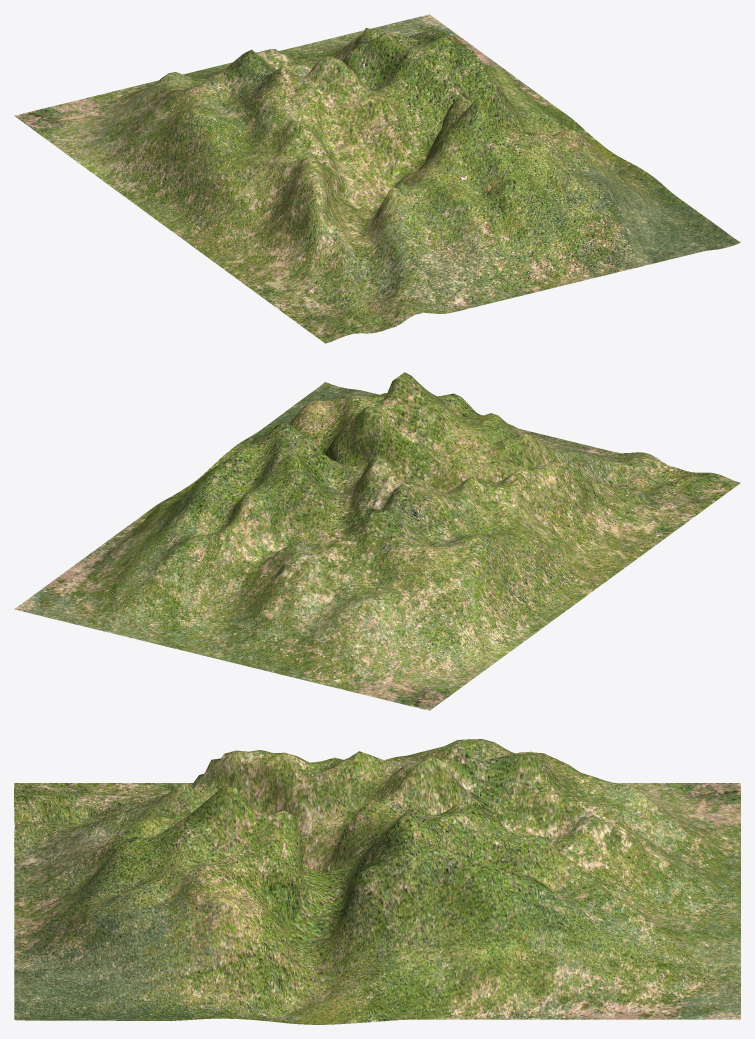
The model's file is mount.obj.
3 views of the same model, one above another, from view 1: azimuth 30°, elevation 25°; view 2: azimuth 150°, elevation 25°; view 3: azimuth 270°, elevation 25° (orthographic). The views are drawn at different scales.
Parts seen in each view (by area): view 1: Landscape; view 2: Landscape; view 3: Landscape.
Part boxes in pixels (x1,y1,x2,y2): Landscape: (14,14,740,343); Landscape: (14,372,740,710); Landscape: (14,739,740,1024).
Bounding box in the file's own units: 6.47 × 1.88 × 8.39.
1 material, 1 textured.
